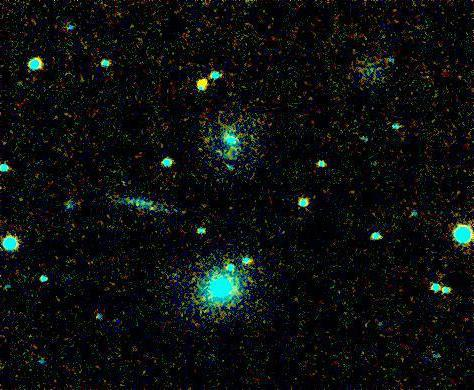star: (186, 68, 216, 98)
